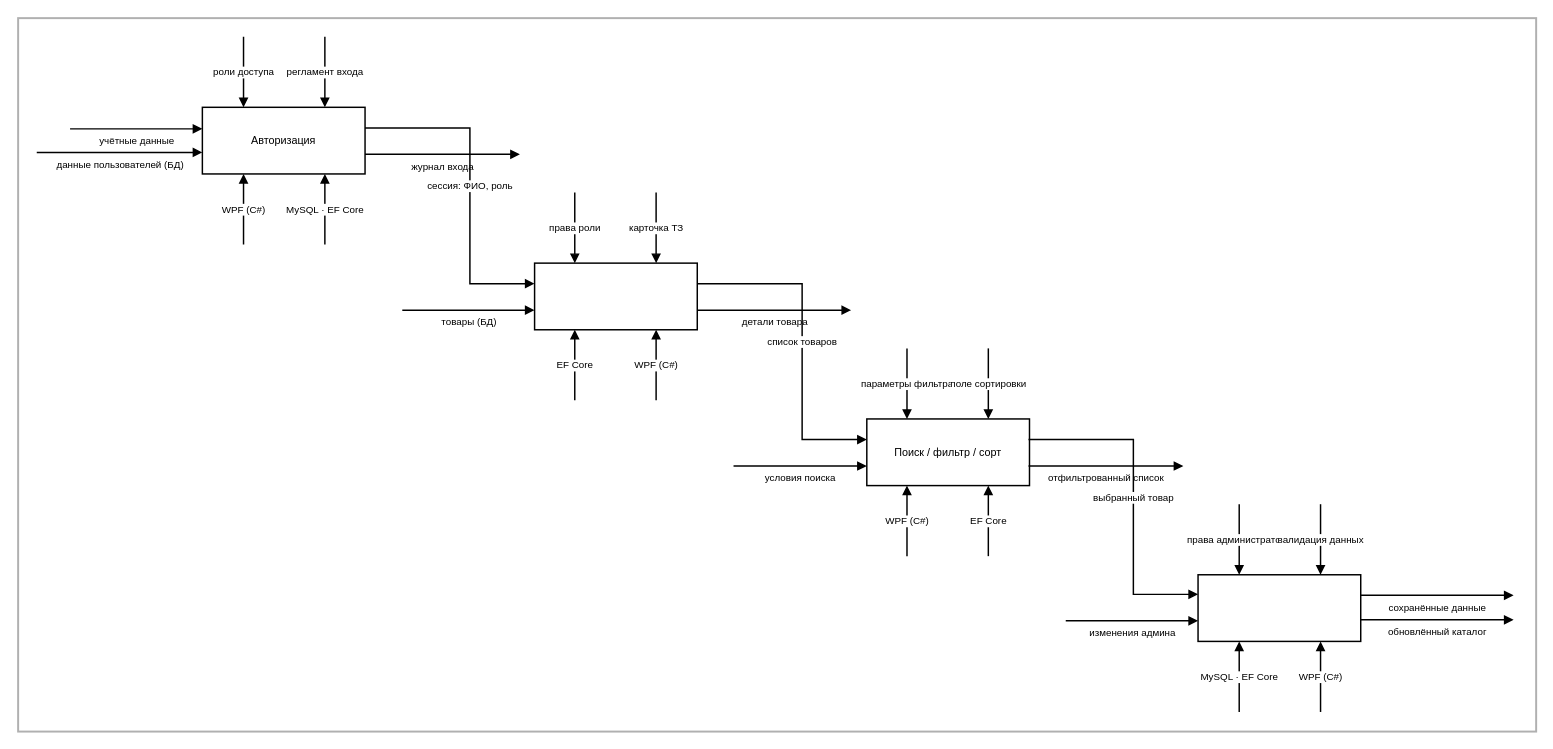
The diagram is 1553 pixels wide and 749 high, and some of its shapes have lost their labels. Each missing label, with the centre of its shape:
"CRUD товаров" goes at point (1279, 608).
"Каталог" goes at point (615, 296).
